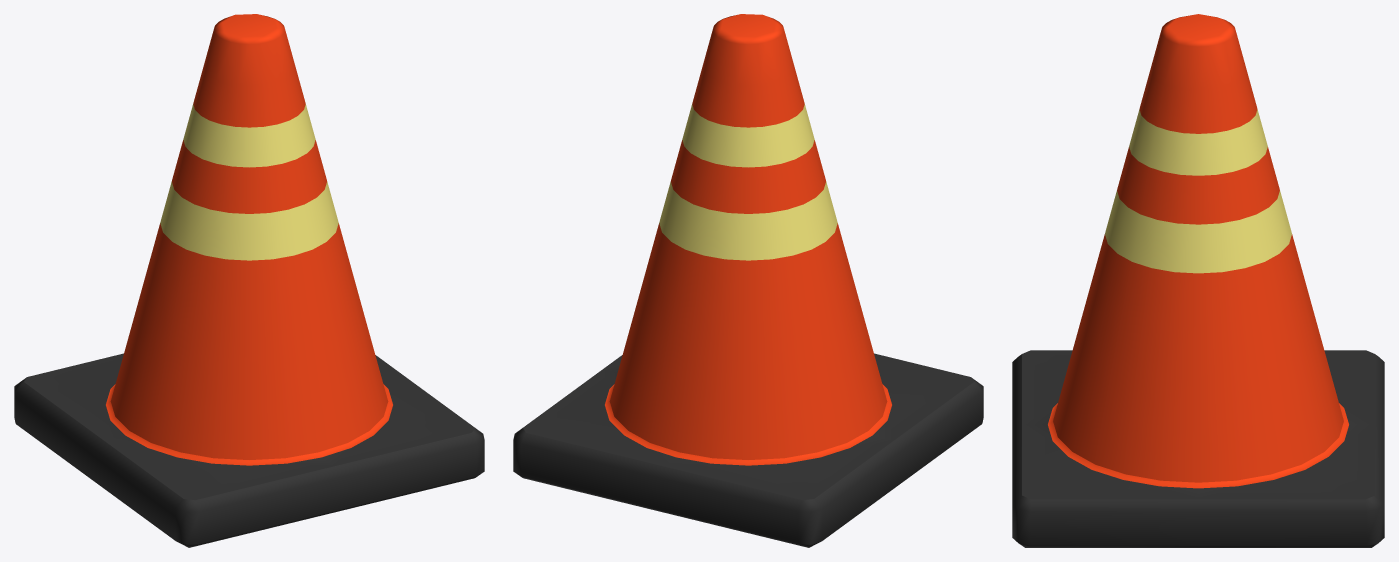
3 views of the same model, side by side, from view 1: azimuth 30°, elevation 25°; view 2: azimuth 150°, elevation 25°; view 3: azimuth 270°, elevation 25° (orthographic). The views are drawn at different scales.
Visible parts, largest first — view 1: orangeCone:polySurface6; view 2: orangeCone:polySurface6; view 3: orangeCone:polySurface6.
Boxes of the visible parts, x1,y1,x2,y2 form: orangeCone:polySurface6: [14, 14, 484, 547]; orangeCone:polySurface6: [513, 14, 983, 547]; orangeCone:polySurface6: [1012, 14, 1384, 547].
Bounding box in the file's own units: 0.0501 × 0.0665 × 0.0501.
